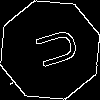U: (25, 25, 80, 74)
